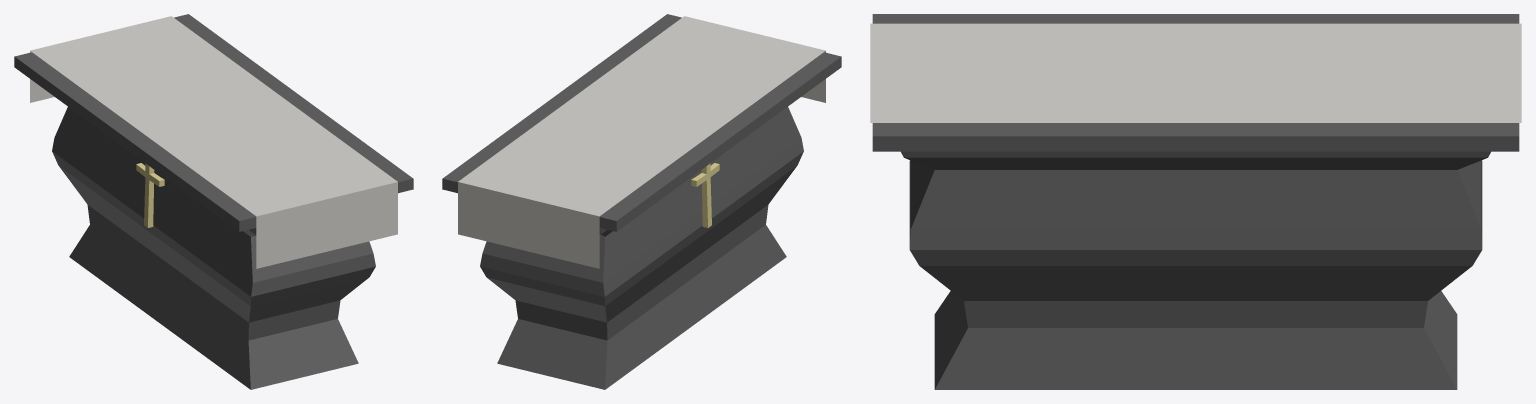
Rendered from Model_oltarz.fbx.
3 renders of one model, left to right at view 1: azimuth 30°, elevation 25°; view 2: azimuth 150°, elevation 25°; view 3: azimuth 270°, elevation 25°, orthographic. The views are drawn at different scales.
Parts seen in each view (by area): view 1: Mesh_oltarz; view 2: Mesh_oltarz; view 3: Mesh_oltarz.
Part boxes in pixels (left/top/right/bottom): Mesh_oltarz: left=14, top=14, right=413, bottom=389; Mesh_oltarz: left=442, top=14, right=841, bottom=389; Mesh_oltarz: left=870, top=14, right=1521, bottom=389.
Size of the model in its own units: 372 by 176 by 165.
